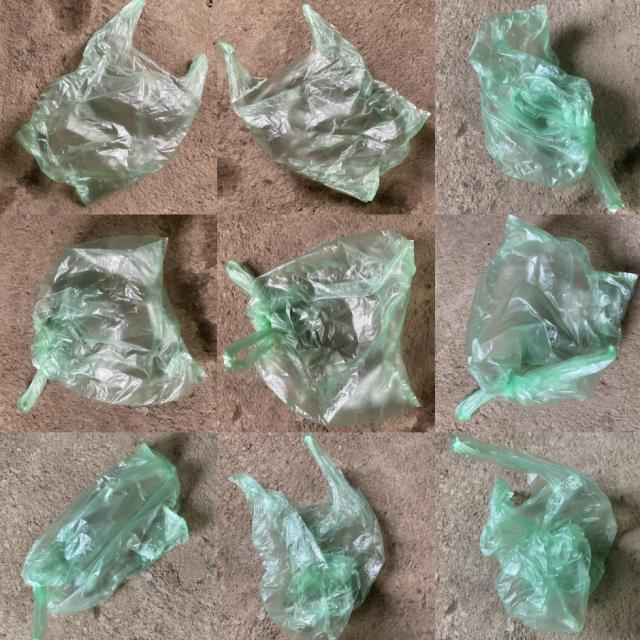plastik: (218, 3, 430, 201), (15, 0, 209, 204), (223, 230, 419, 426), (456, 215, 638, 419), (456, 216, 636, 419), (16, 235, 206, 413), (22, 443, 188, 640), (452, 436, 617, 632), (229, 433, 385, 640), (469, 4, 624, 212)
